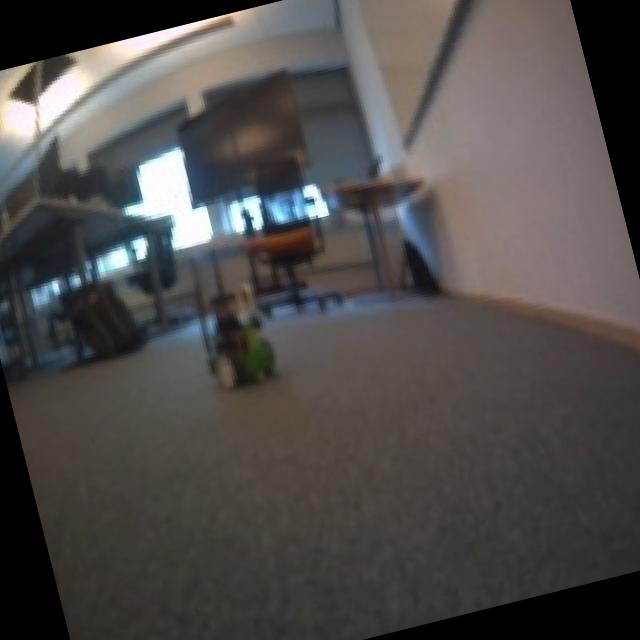robot: (199, 313, 281, 394)
